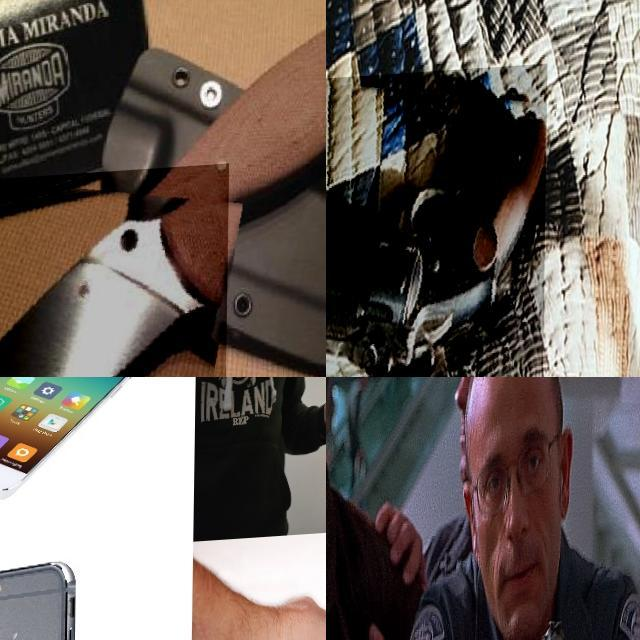-: (0, 168, 230, 377)
gun-knife-thesis - v11 Yolov5 augmented: (326, 69, 547, 377)
